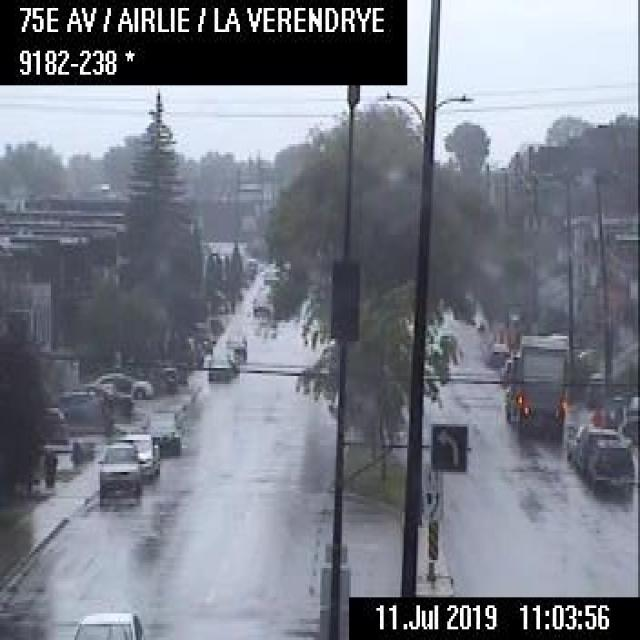vehicle: (517, 330, 567, 442), (587, 434, 635, 501), (96, 438, 138, 504), (70, 609, 144, 637), (120, 431, 160, 482), (86, 368, 151, 399), (144, 409, 182, 455), (56, 388, 104, 422), (206, 346, 234, 381), (222, 330, 247, 361), (484, 339, 508, 367)
